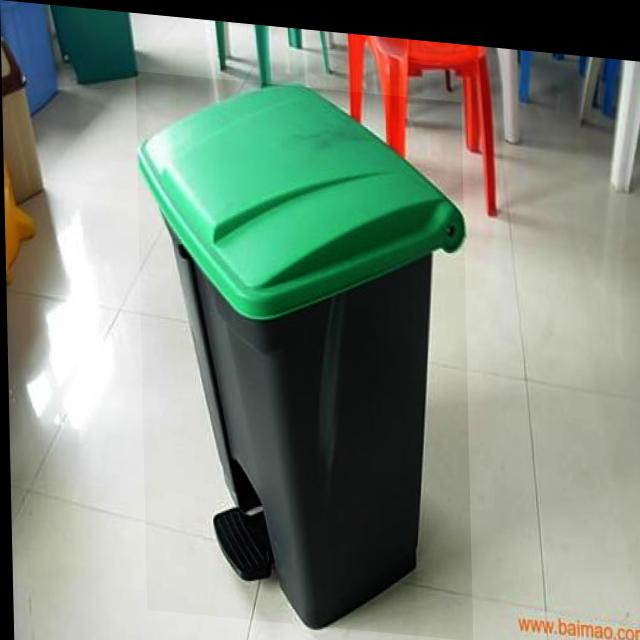garbage_bin: (135, 68, 470, 632)
